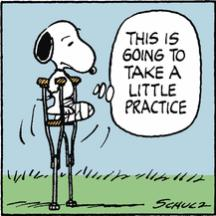snoopy: (32, 18, 98, 124)
